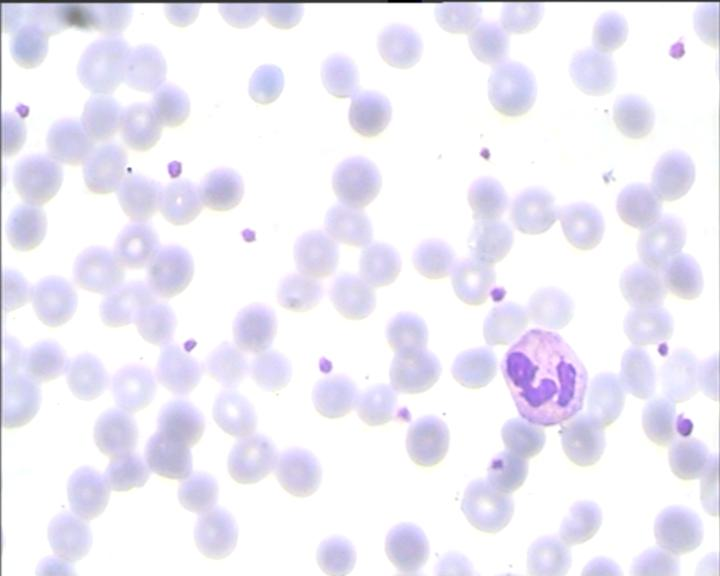neut: (496, 324, 593, 423)
